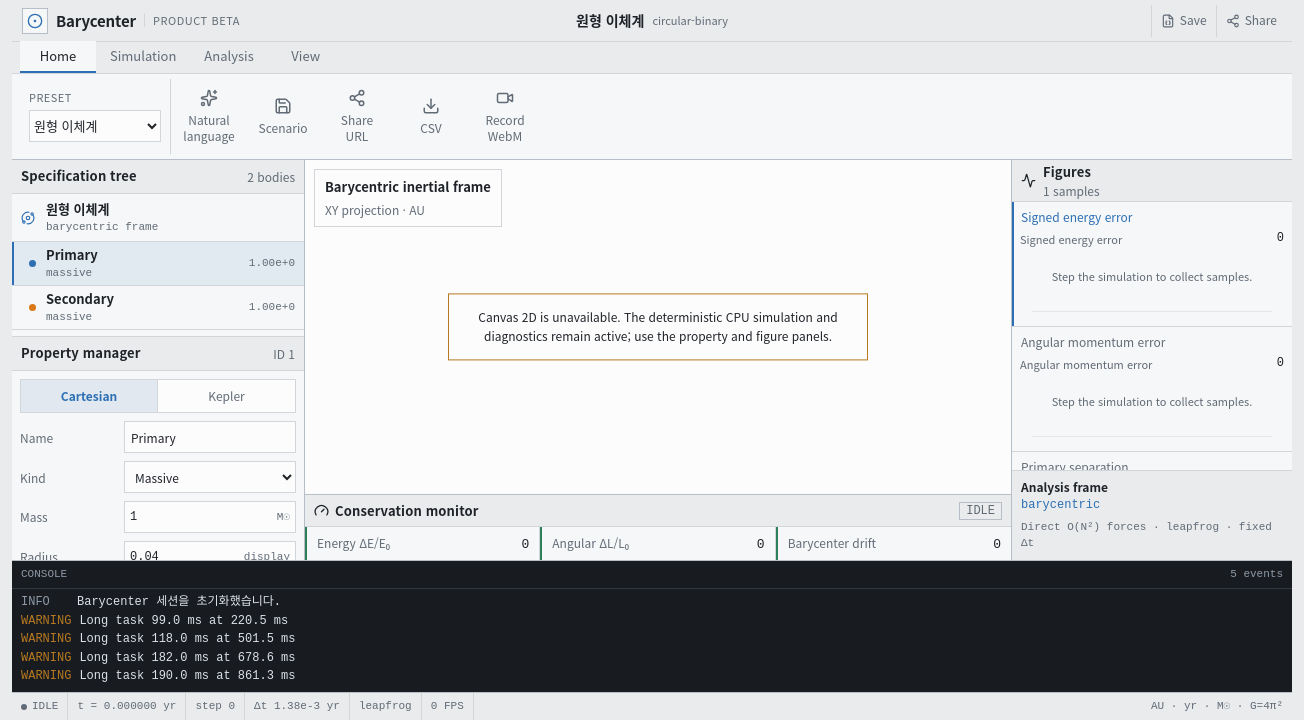
Test: Core v1 CPU fallback smoke › keeps default load, stepping, diagnostics, and CSV usable without Canvas
Later steps or results of the test are not shown.
Check: the text "Canvas 2D is unavailable" is shown, box left=478, top=308, right=838, bottom=344
Check: the text "원형 이체계" next to "circular-binary" is shown, box left=576, top=11, right=644, bottom=30
Click the tab "Simulation": (143, 57) left=96, top=41, right=190, bottom=73
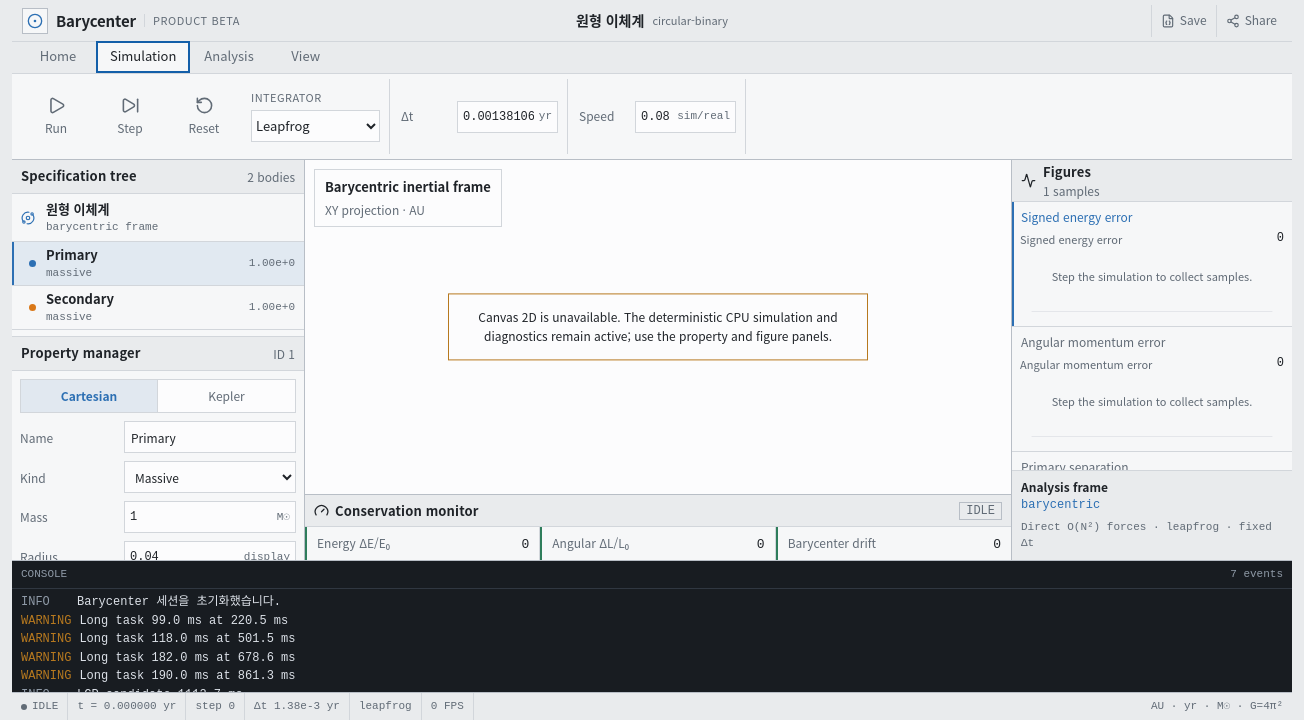
Click the button "Step": (130, 116) left=94, top=79, right=166, bottom=154
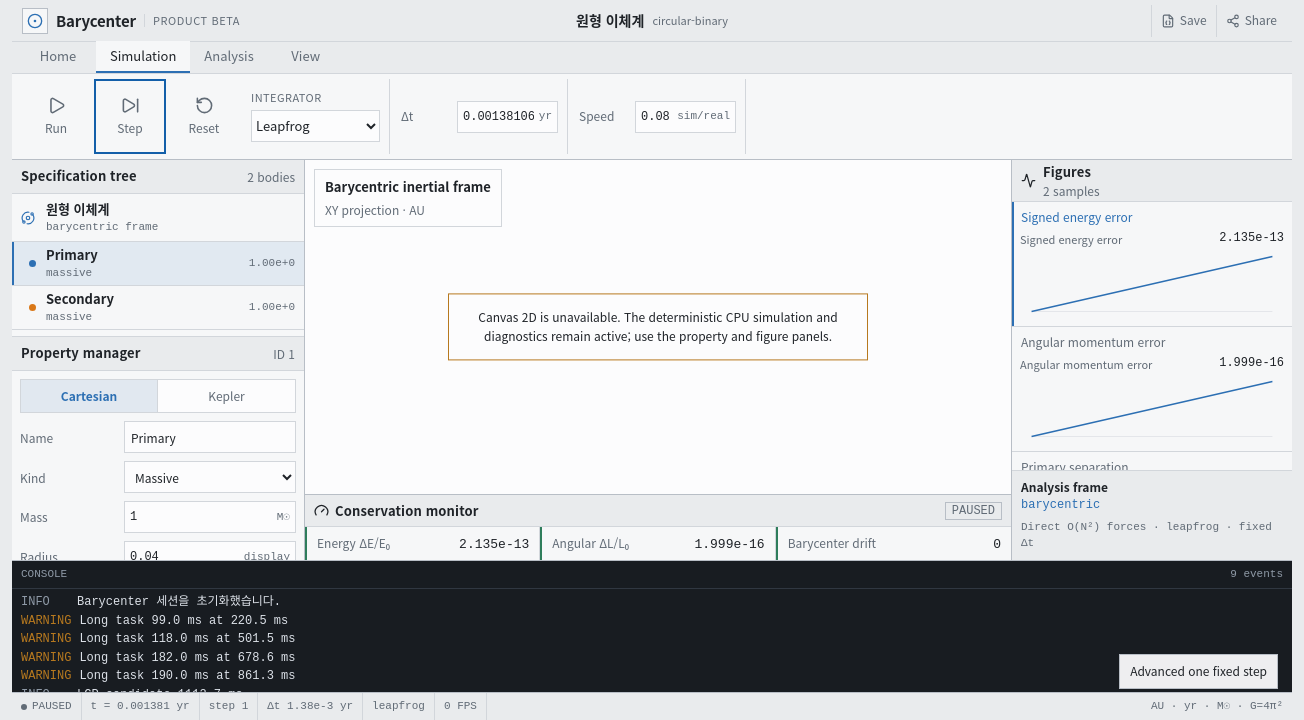
Check: the text "step 1" is shown, box left=200, top=693, right=258, bottom=719
